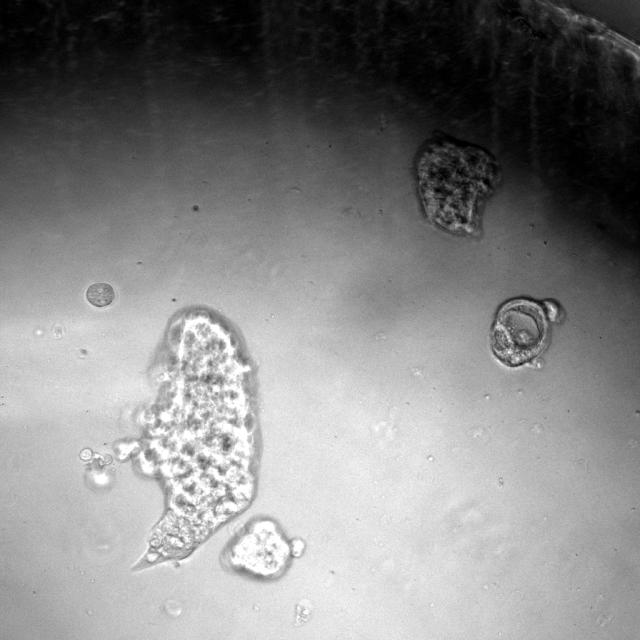organoid: (114, 307, 259, 568), (415, 130, 501, 237), (221, 516, 306, 581), (491, 297, 564, 368), (79, 448, 116, 492), (86, 282, 114, 307)
